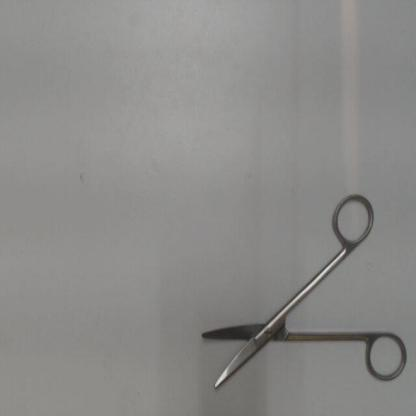Curved Mayo Scissors: (193, 185, 410, 397)
